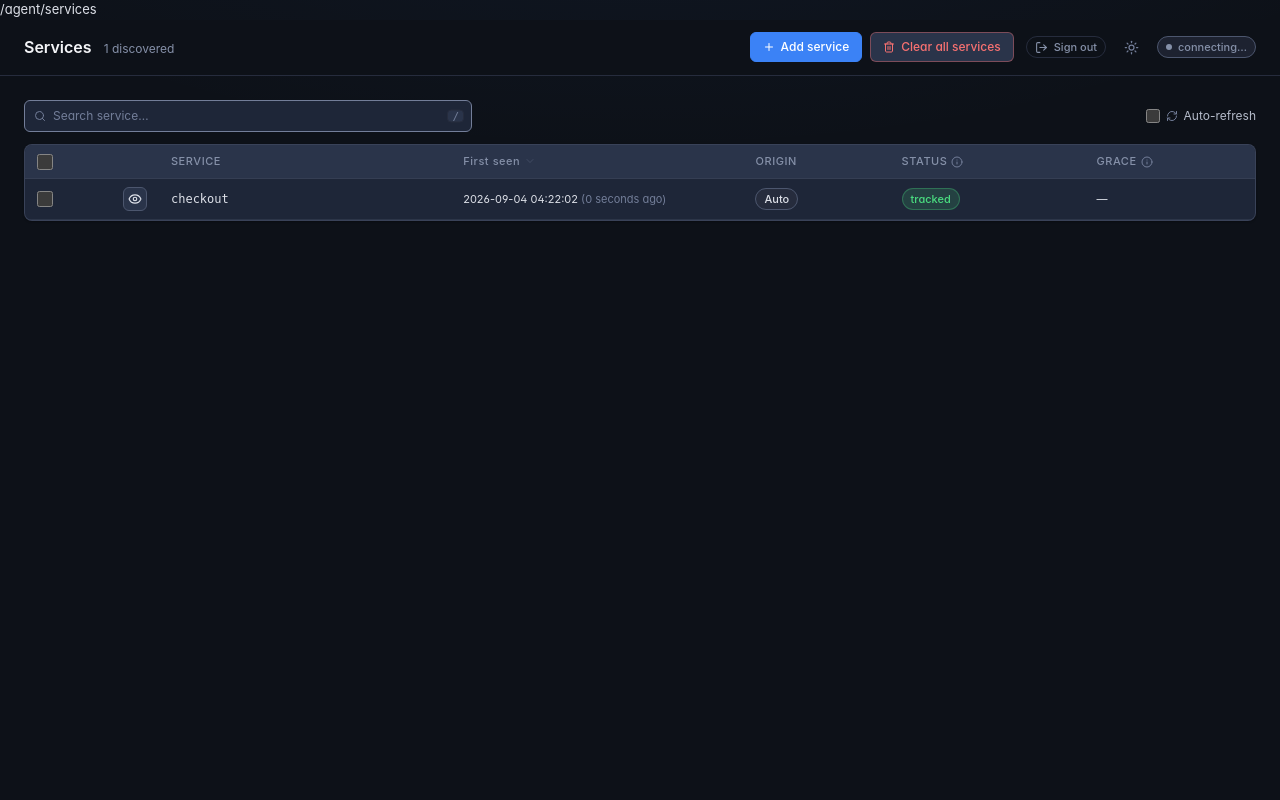
it: ServicesPage row actions › opens a peek from the per-row eye without navigating
Step 1. Click the button named "View service checkout" → [135, 198], box [123,186,147,210]
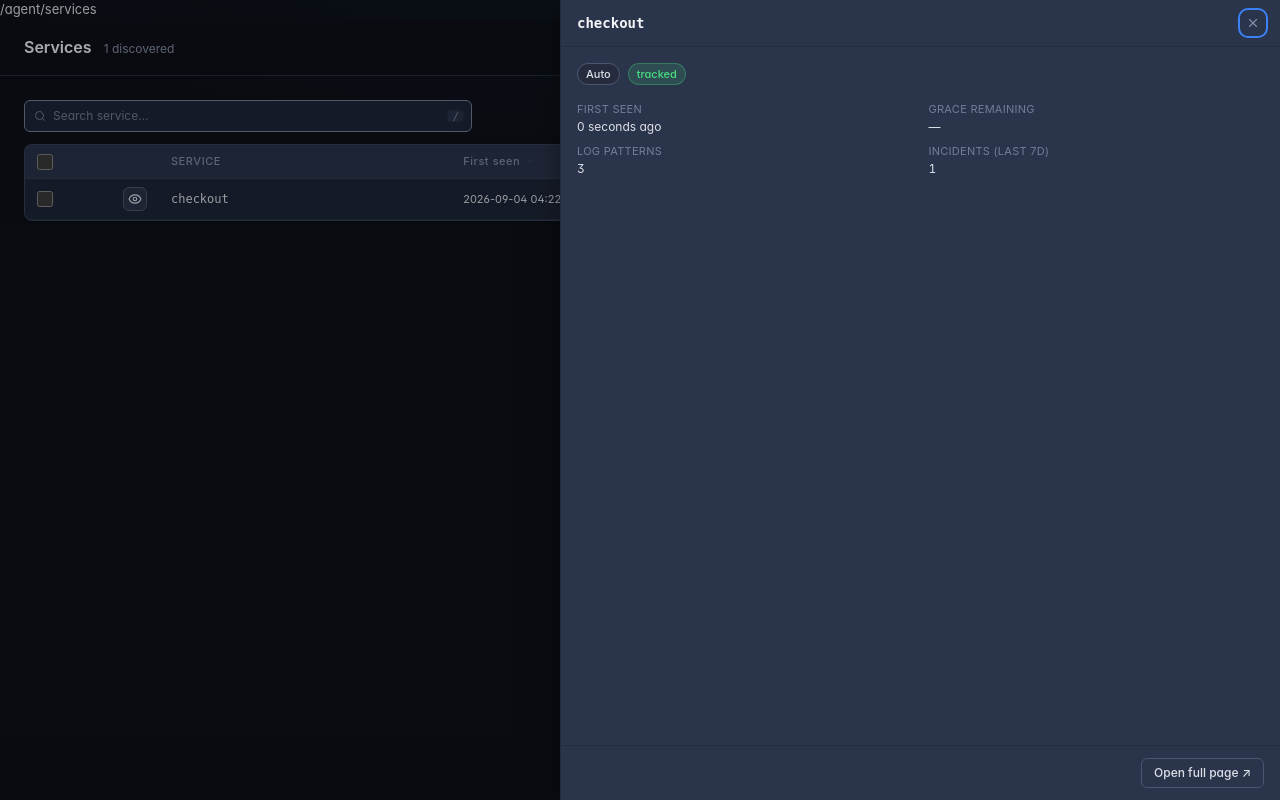
Now the dialog is shown
Now the text "Incidents (last 7d)" is shown, box [928,144,1049,158]
Now the link "Open full page ↗" is shown, box [1141,758,1264,788]
